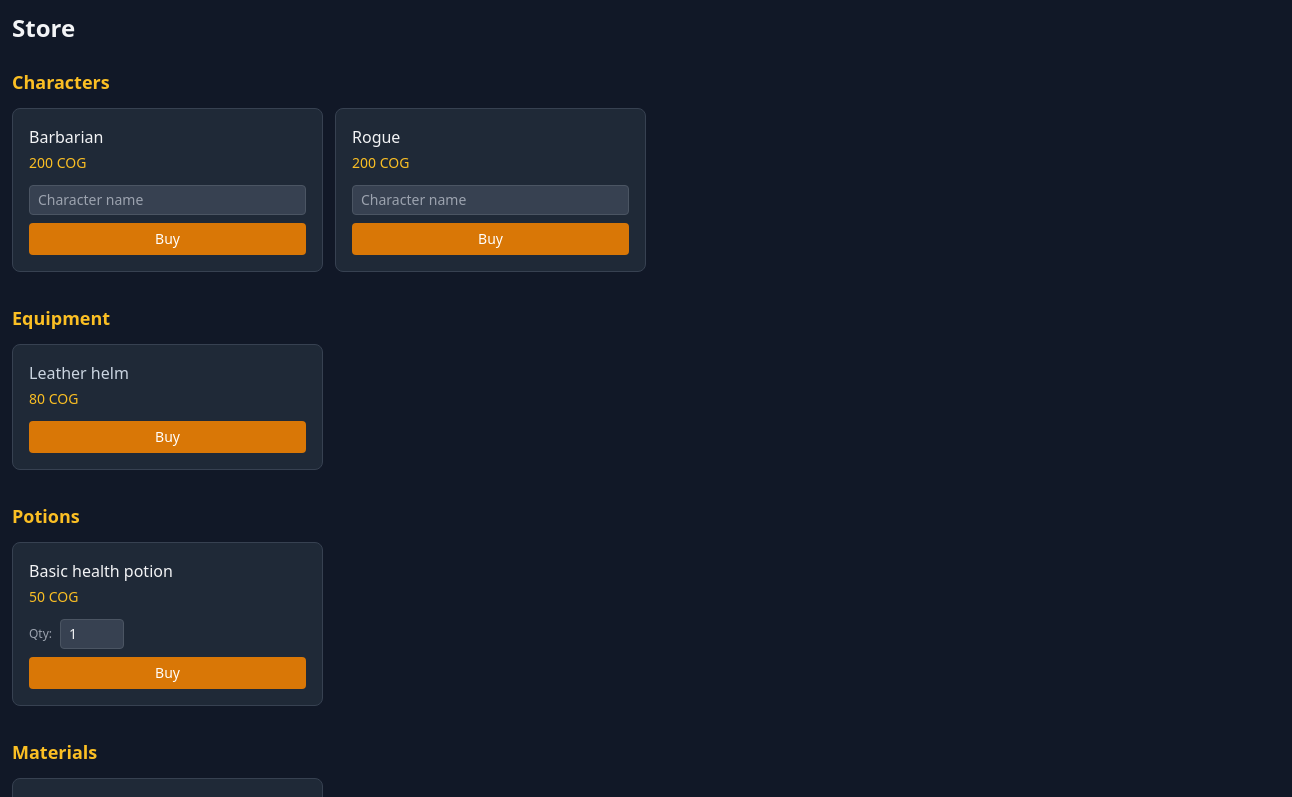
Scenario: StorePage › purchases a character and shows success message
The image size is (1292, 797).
Expected: the text "Barbarian" is shown, [29,126,103,148]
Type "Ragnar" into the field with placeholder "Character name" below "Barbarian" at (168, 200), box [29,185,306,215]
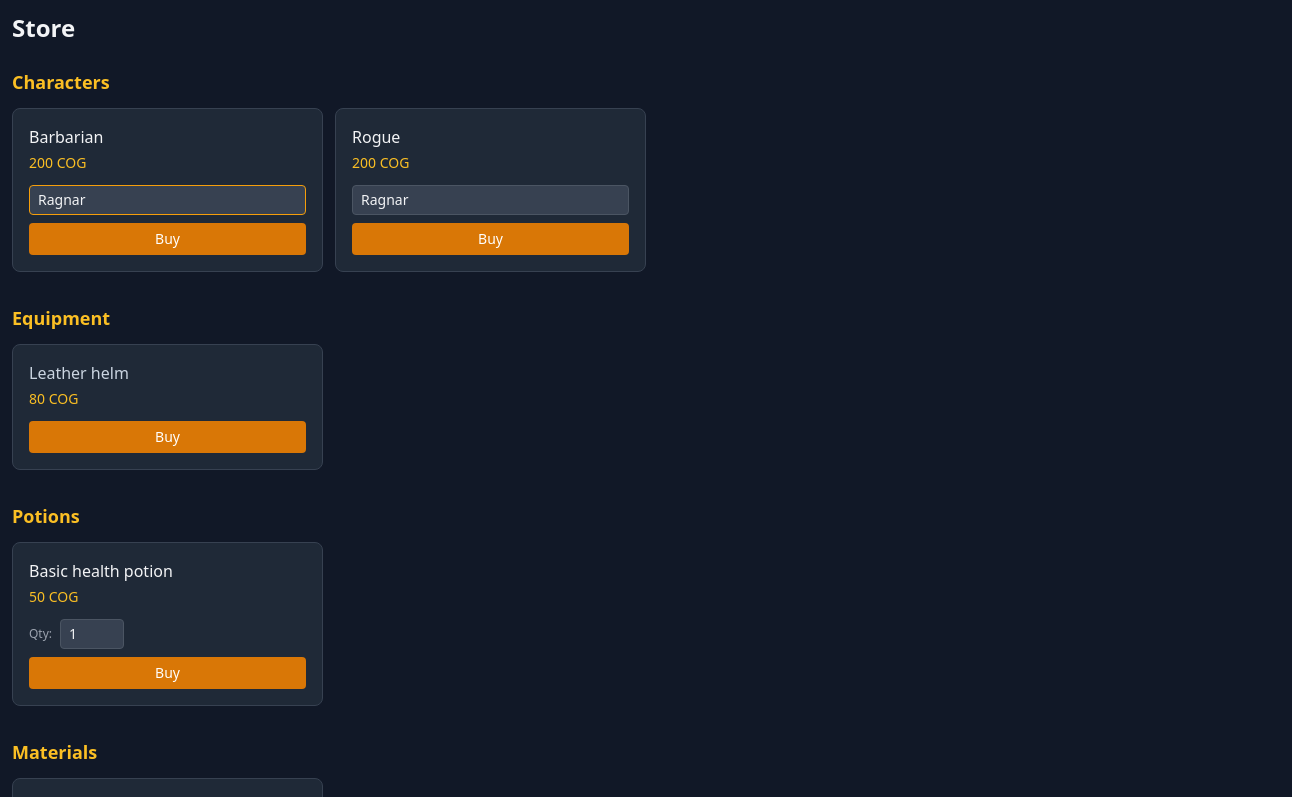
Click the button "Buy" below "Barbarian" at (168, 239), box [29,223,306,255]
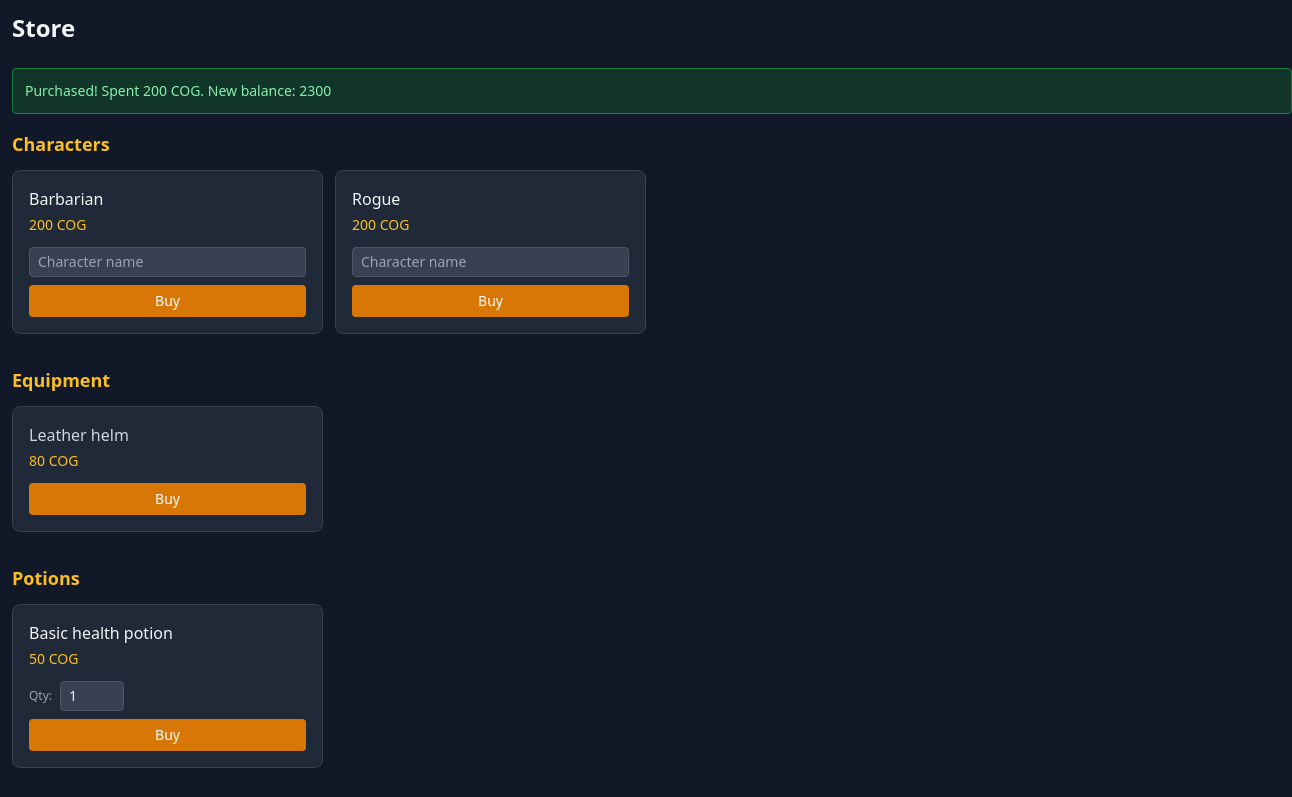
Result: the text "Purchased! Spent 200 COG. New balance: 2300" is shown at [12,68,1291,114]
